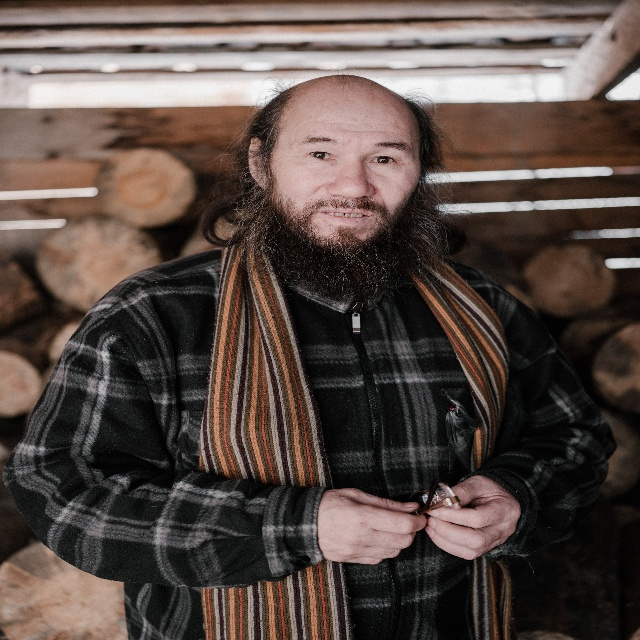Sin_guantes: (316, 484, 427, 569), (426, 472, 521, 561)
